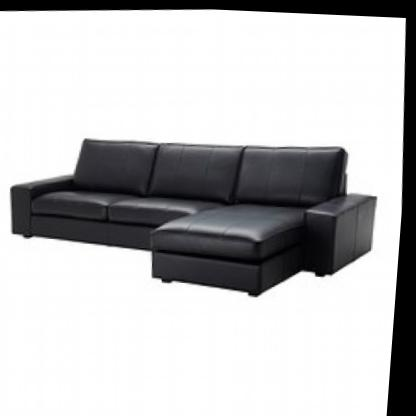Sofa: (0, 94, 390, 319)
